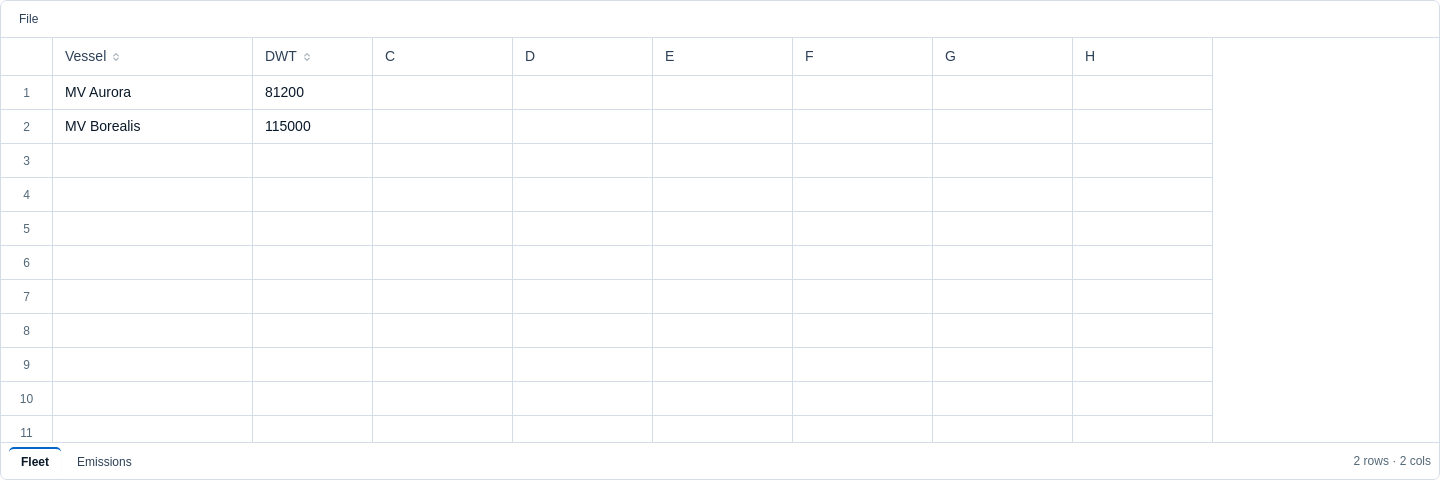
Test: Spreadsheet › switches sheets via the tabs
The image size is (1440, 497).
Check: the text "Jan" is not shown
Click the tab "Emissions" at (104, 462), box [77,455,132,469]
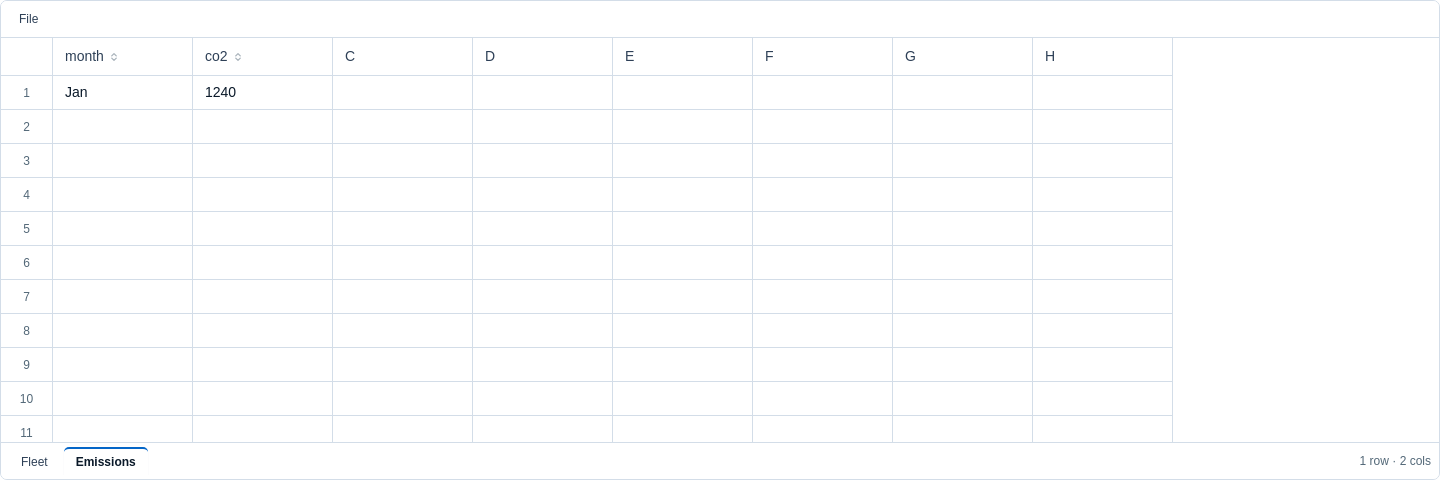
Check: the text "Jan" is shown, box [65,82,88,103]
